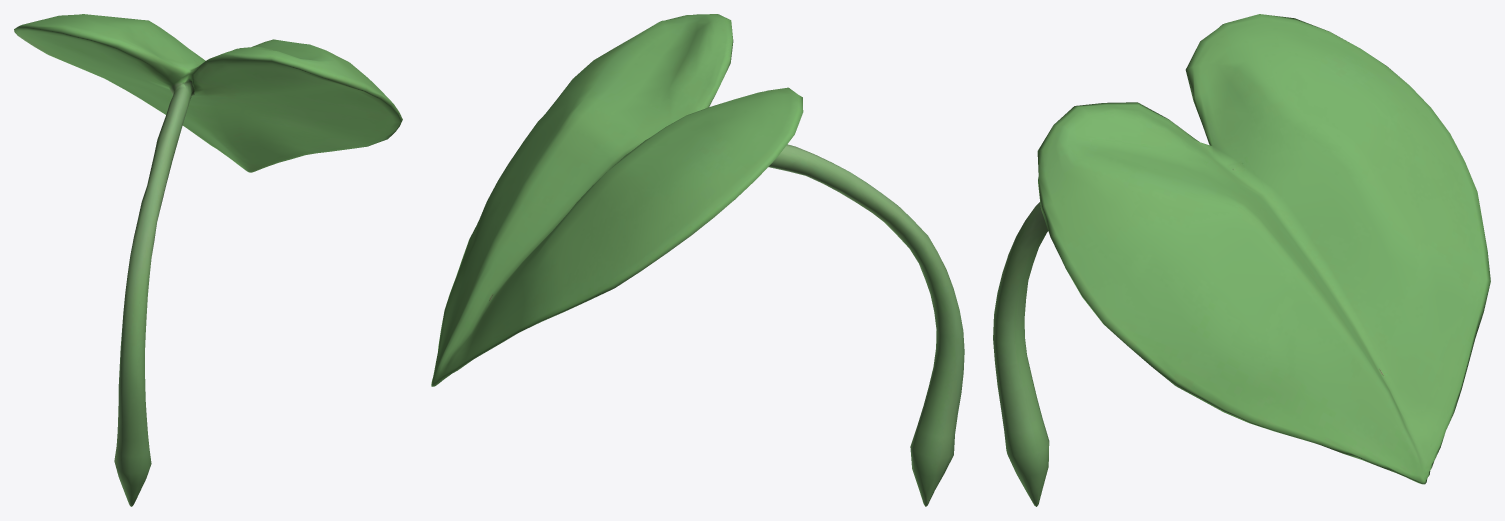
The model's file is monstera_leaf_mid2_v2.glb.
3 renders of one model, left to right at view 1: azimuth 30°, elevation 25°; view 2: azimuth 150°, elevation 25°; view 3: azimuth 270°, elevation 25°, orthographic. The views are drawn at different scales.
Visible parts, largest first — view 1: tripo_node_42b3a434-74ea-4809-adca-7140d944601e; view 2: tripo_node_42b3a434-74ea-4809-adca-7140d944601e; view 3: tripo_node_42b3a434-74ea-4809-adca-7140d944601e.
Part boxes in pixels (x1,y1,x2,y2): tripo_node_42b3a434-74ea-4809-adca-7140d944601e: [14, 14, 402, 506]; tripo_node_42b3a434-74ea-4809-adca-7140d944601e: [431, 14, 964, 506]; tripo_node_42b3a434-74ea-4809-adca-7140d944601e: [993, 14, 1490, 506].
Bounding box in the file's own units: 0.8527 × 0.9951 × 0.8866.
1 material, 1 textured.
